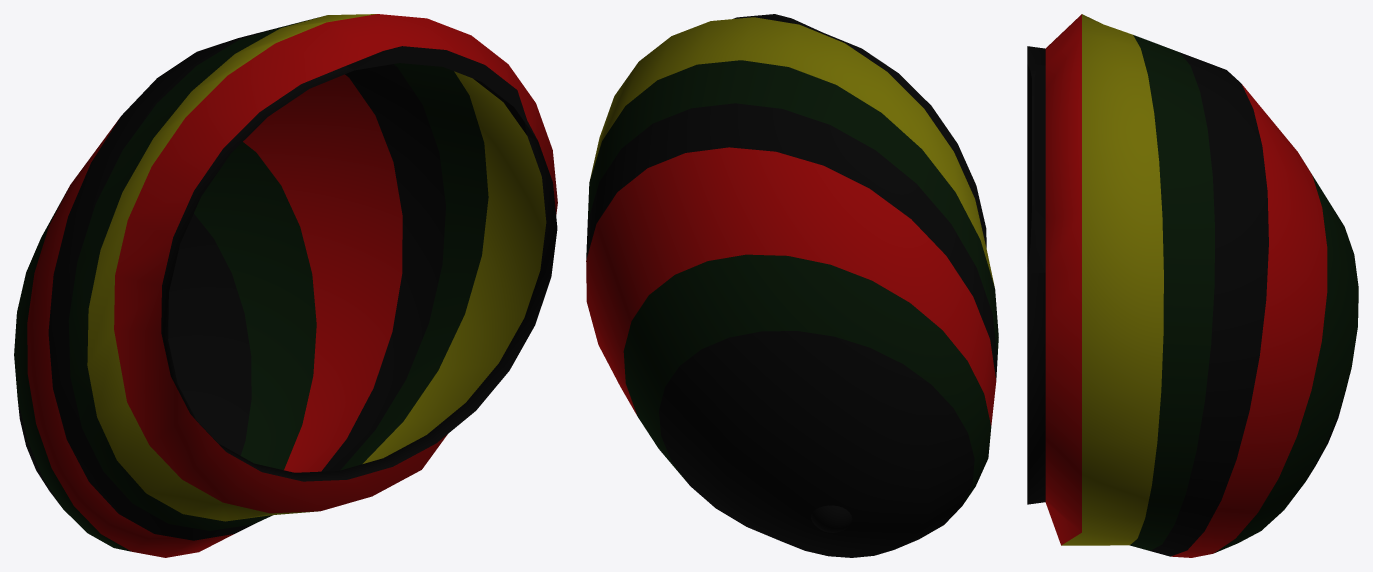
The model's file is jamaican.FBX.
3 renders of one model, left to right at view 1: azimuth 30°, elevation 25°; view 2: azimuth 150°, elevation 25°; view 3: azimuth 270°, elevation 25°, orthographic. The views are drawn at different scales.
Visible parts, largest first — view 1: jamaican hat; view 2: jamaican hat; view 3: jamaican hat.
Boxes of the visible parts, bbox=[...] form: jamaican hat: bbox=[14, 14, 557, 557]; jamaican hat: bbox=[586, 14, 998, 557]; jamaican hat: bbox=[1027, 14, 1358, 557].
Size of the model in its own units: 21.55 by 12.51 by 22.68.
